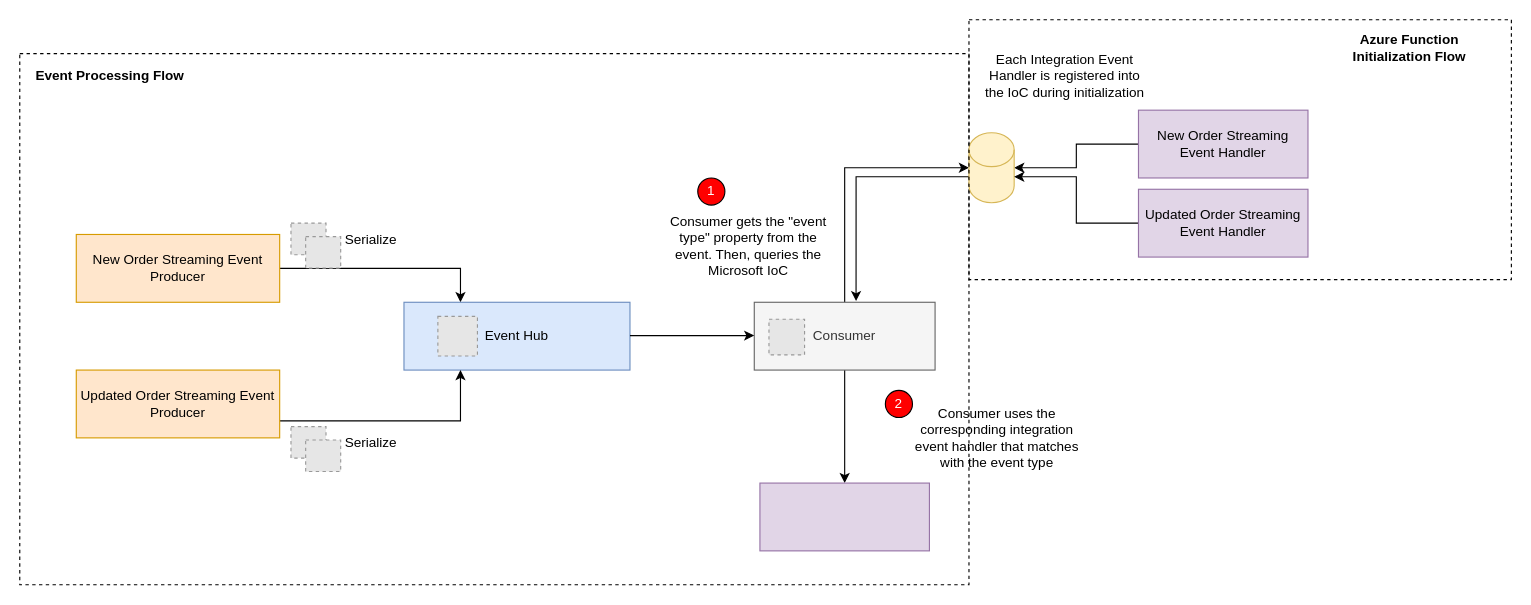
The diagram is 1531 pixels wide and 605 high, and some of its shapes have lost their labels. Grey dashed boxes stand in for pictures. Each missing label, with the centre of its shape:
Integration Event Handler: [844,516]
IOC: [991,167]
